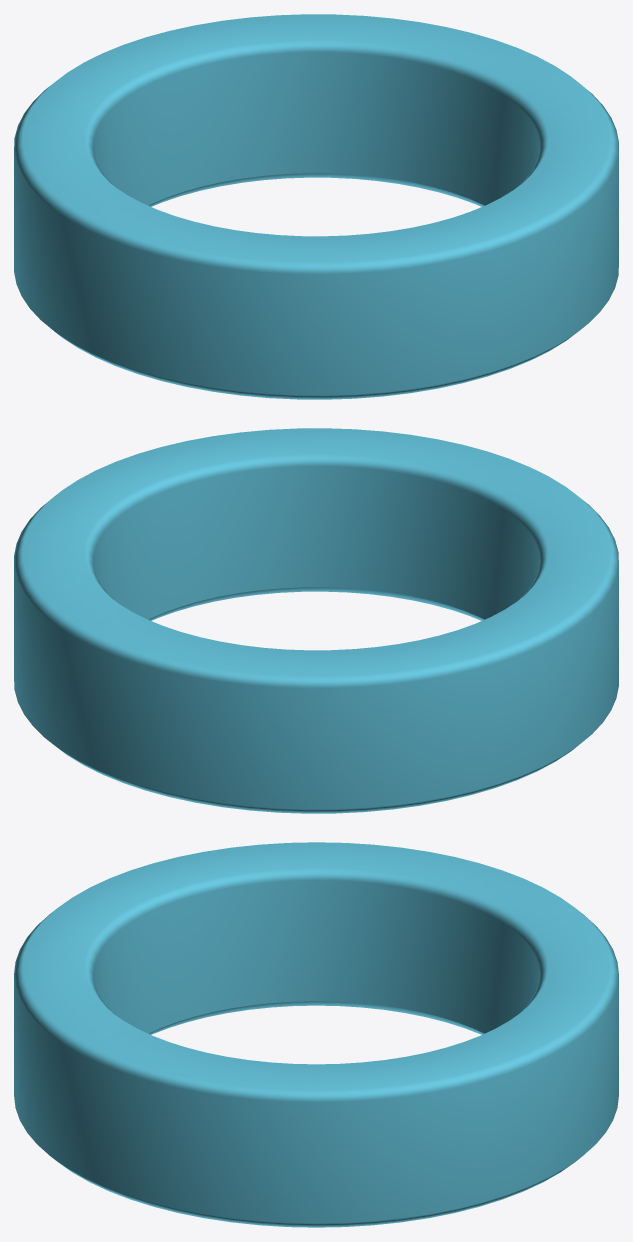
3 views of the same model, one above another, from view 1: azimuth 30°, elevation 25°; view 2: azimuth 150°, elevation 25°; view 3: azimuth 270°, elevation 25° (orthographic).
Parts seen in each view (by area): view 1: seal_body; view 2: seal_body; view 3: seal_body.
Part boxes in pixels (<box>): seal_body: <box>14,14,618,399</box>; seal_body: <box>14,428,618,813</box>; seal_body: <box>14,842,618,1227</box>.
Size of the model in its own units: 0.038 by 0.00952 by 0.038.
